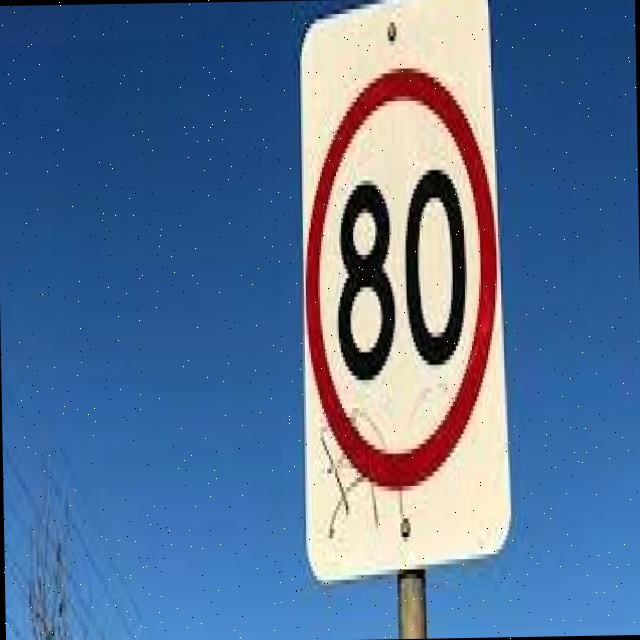speed_limit_80: (302, 60, 503, 497)
